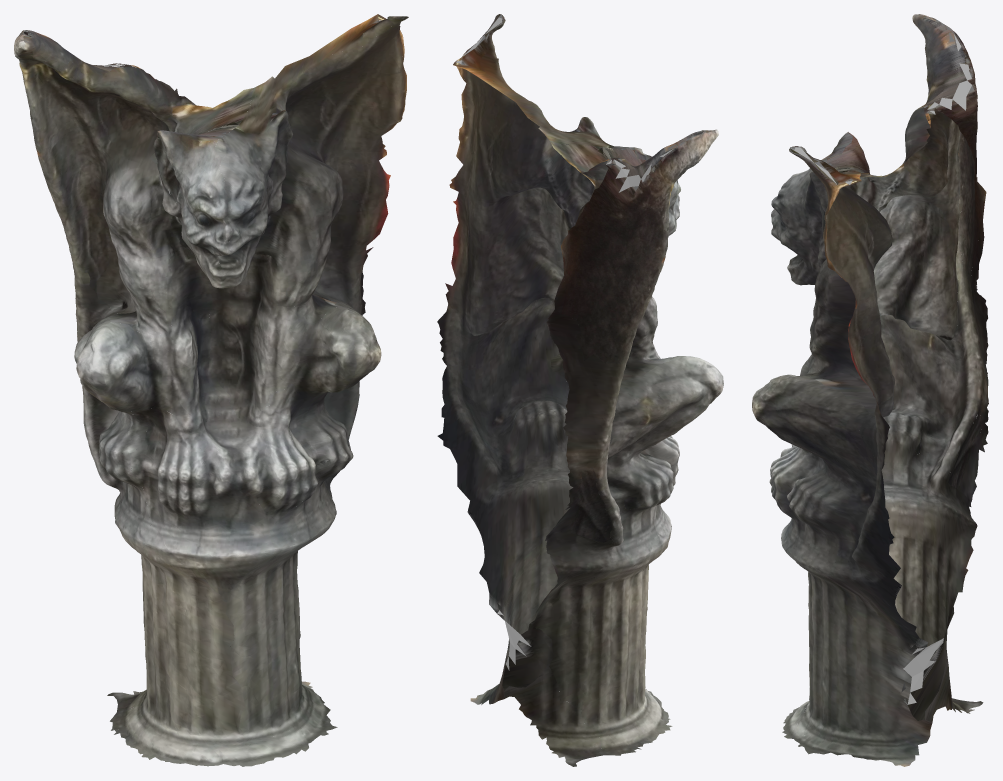
The model's file is gargoyle.glb.
3 renders of one model, left to right at view 1: azimuth 30°, elevation 25°; view 2: azimuth 150°, elevation 25°; view 3: azimuth 270°, elevation 25°, orthographic. The views are drawn at different scales.
Parts seen in each view (by area): view 1: Object_3, Object_2, Object_4; view 2: Object_2, Object_3, Object_4, Object_5; view 3: Object_3, Object_2, Object_4, Object_5.
Boxes of the visible parts, x1,y1,x2,y2 form: Object_3: (21,14,404,743); Object_2: (70,14,408,766); Object_4: (14,30,238,255); Object_2: (437,14,723,755); Object_3: (437,14,706,766); Object_4: (561,129,718,542); Object_5: (455,17,674,670); Object_3: (752,16,983,766); Object_2: (769,147,988,738); Object_4: (771,14,986,489); Object_5: (790,34,971,704).
Size of the model in its own units: 3.18 by 6.44 by 2.16.
Materials: 4 (3 with a texture image).
